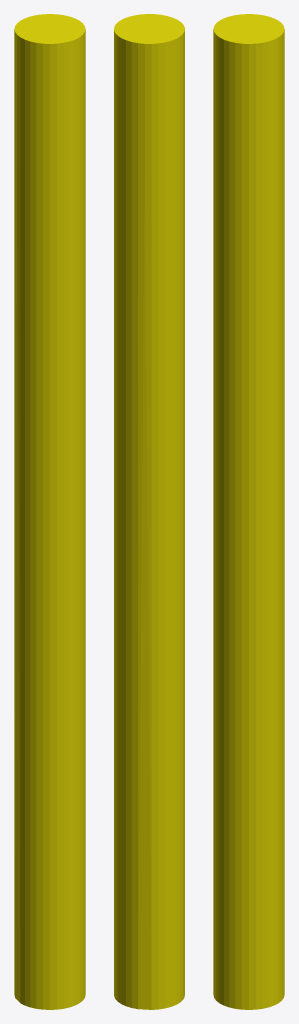
Rendered from laser.fbx.
3 renders of one model, left to right at view 1: azimuth 90°, elevation 25°; view 2: azimuth 150°, elevation 25°; view 3: azimuth 270°, elevation 25°, orthographic.
Parts seen in each view (by area): view 1: 円柱; view 2: 円柱; view 3: 円柱.
Part boxes in pixels (box(x1,y1,x2,y2)): 円柱: box(14, 14, 85, 1009); 円柱: box(114, 14, 184, 1009); 円柱: box(213, 14, 284, 1009).
Bounding box in the file's own units: 1 × 15 × 1.
